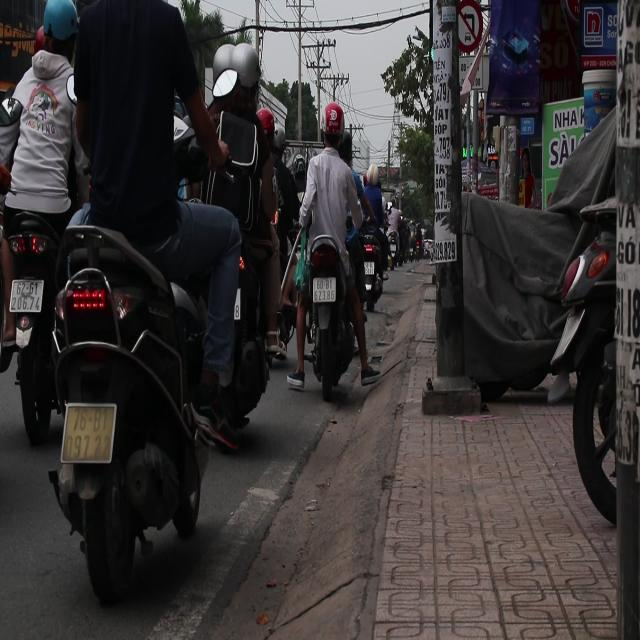motorbike: (12, 188, 212, 624), (300, 246, 358, 393), (357, 219, 392, 310)
